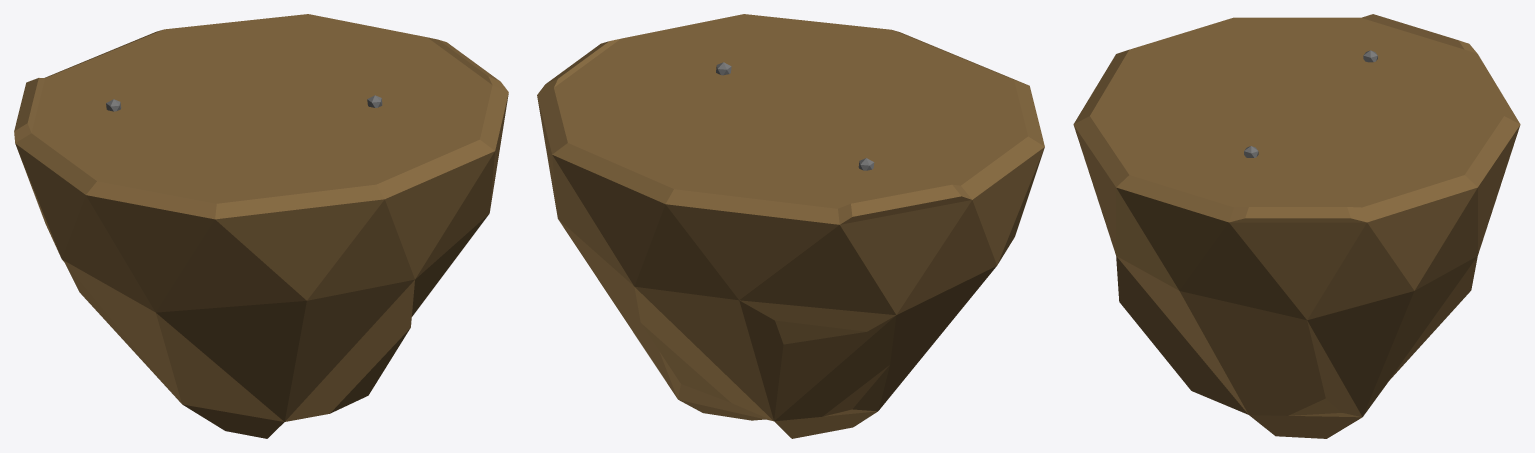
Rendered from planet.glb.
3 views of the same model, side by side, from view 1: azimuth 30°, elevation 25°; view 2: azimuth 150°, elevation 25°; view 3: azimuth 270°, elevation 25° (orthographic). The views are drawn at different scales.
Parts seen in each view (by area): view 1: planet; view 2: planet; view 3: planet.
Part boxes in pixels (x1=…): planet: x1=14, y1=14, x2=508, y2=438; planet: x1=537, y1=14, x2=1044, y2=438; planet: x1=1073, y1=14, x2=1520, y2=438.
Bounding box in the file's own units: 2.8 × 2.01 × 2.62.
